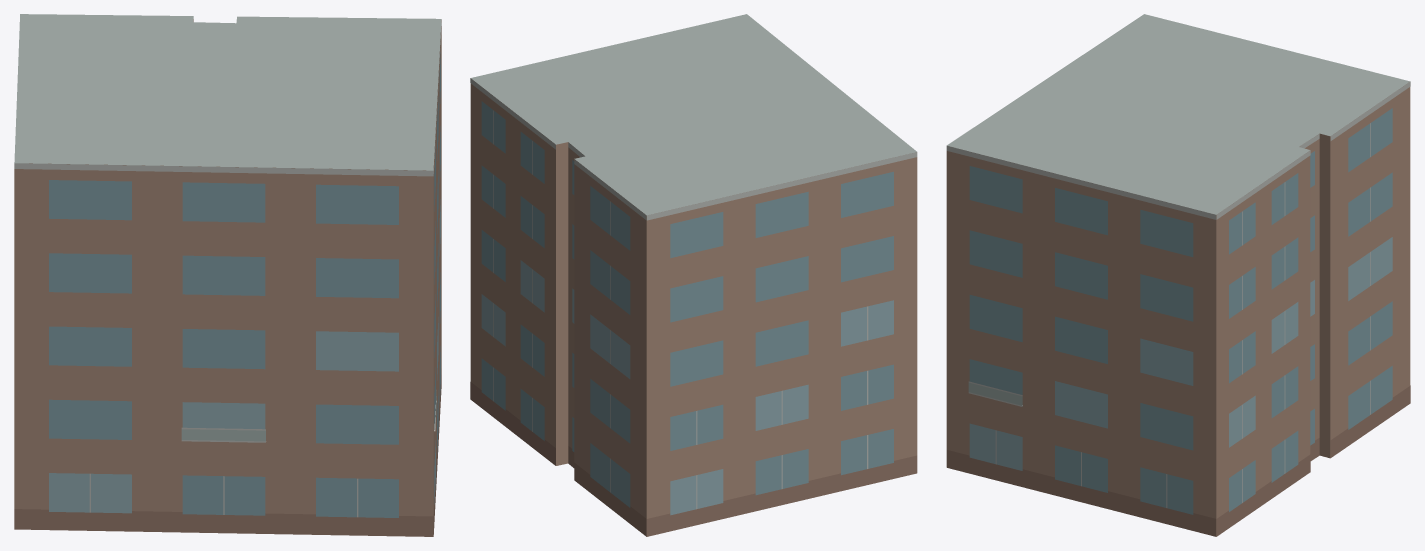
File: survey-upis-32770101.glb
3 renders of one model, left to right at view 1: azimuth 30°, elevation 25°; view 2: azimuth 150°, elevation 25°; view 3: azimuth 270°, elevation 25°, orthographic. The views are drawn at different scales.
Visible parts, largest first — view 1: survey-upis-32770101.tmp; view 2: survey-upis-32770101.tmp; view 3: survey-upis-32770101.tmp.
Boxes of the visible parts, left/top/right/bottom form: survey-upis-32770101.tmp: left=14, top=14, right=441, bottom=536; survey-upis-32770101.tmp: left=470, top=14, right=917, bottom=536; survey-upis-32770101.tmp: left=946, top=14, right=1410, bottom=536.
Size of the model in its own units: 20.41 by 15.25 by 19.91.
